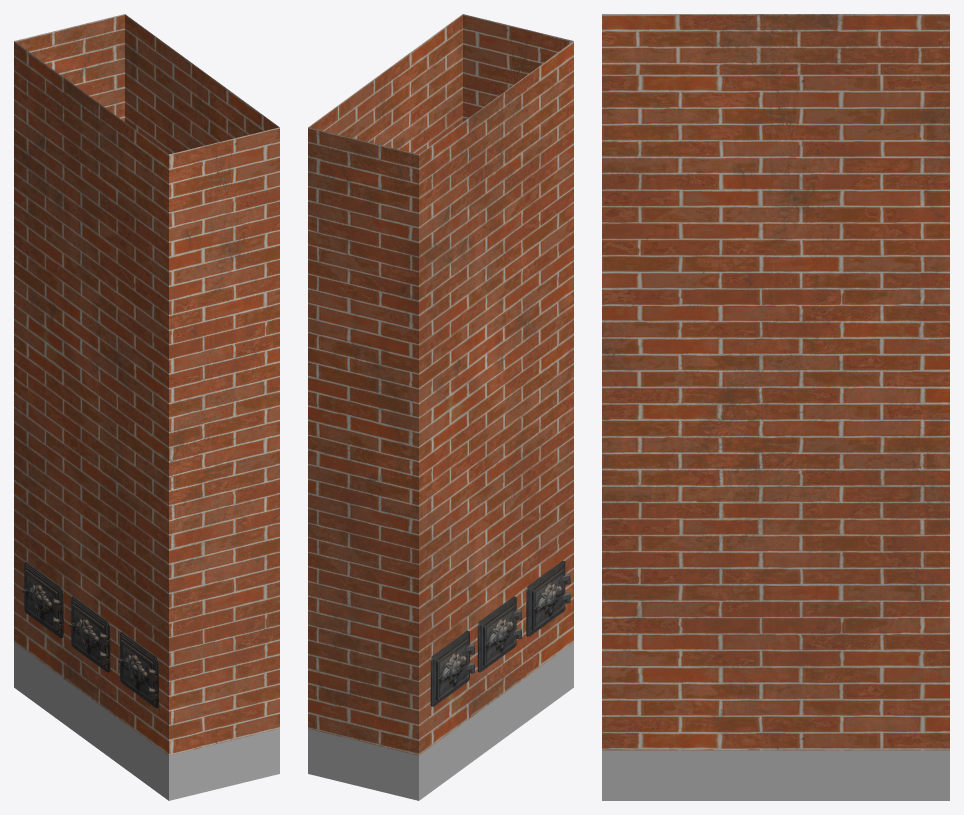
The model's file is SM_Chimney02B.fbx.
3 renders of one model, left to right at view 1: azimuth 30°, elevation 25°; view 2: azimuth 150°, elevation 25°; view 3: azimuth 270°, elevation 25°, orthographic. The views are drawn at different scales.
Parts seen in each view (by area): view 1: SM_Chimney02B; view 2: SM_Chimney02B; view 3: SM_Chimney02B.
Part boxes in pixels (bbox=[...]): SM_Chimney02B: bbox=[14, 14, 279, 800]; SM_Chimney02B: bbox=[308, 14, 573, 800]; SM_Chimney02B: bbox=[602, 14, 949, 800].
Size of the model in its own units: 61.5 by 138 by 318.
